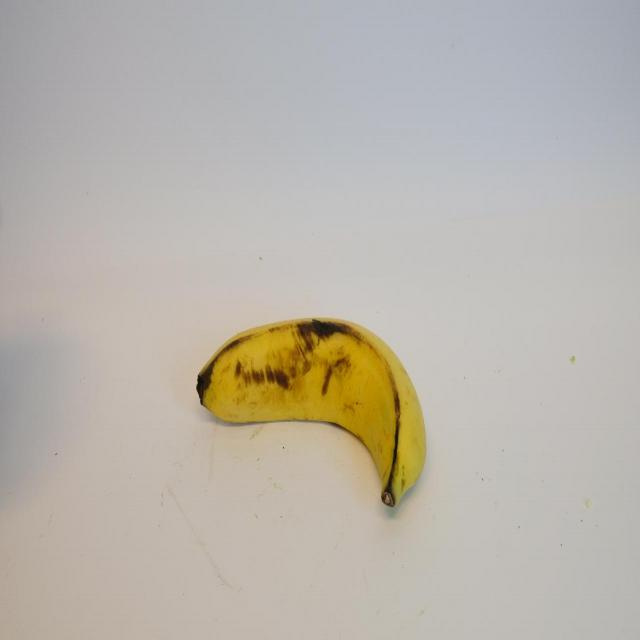banana: (193, 303, 434, 517)
